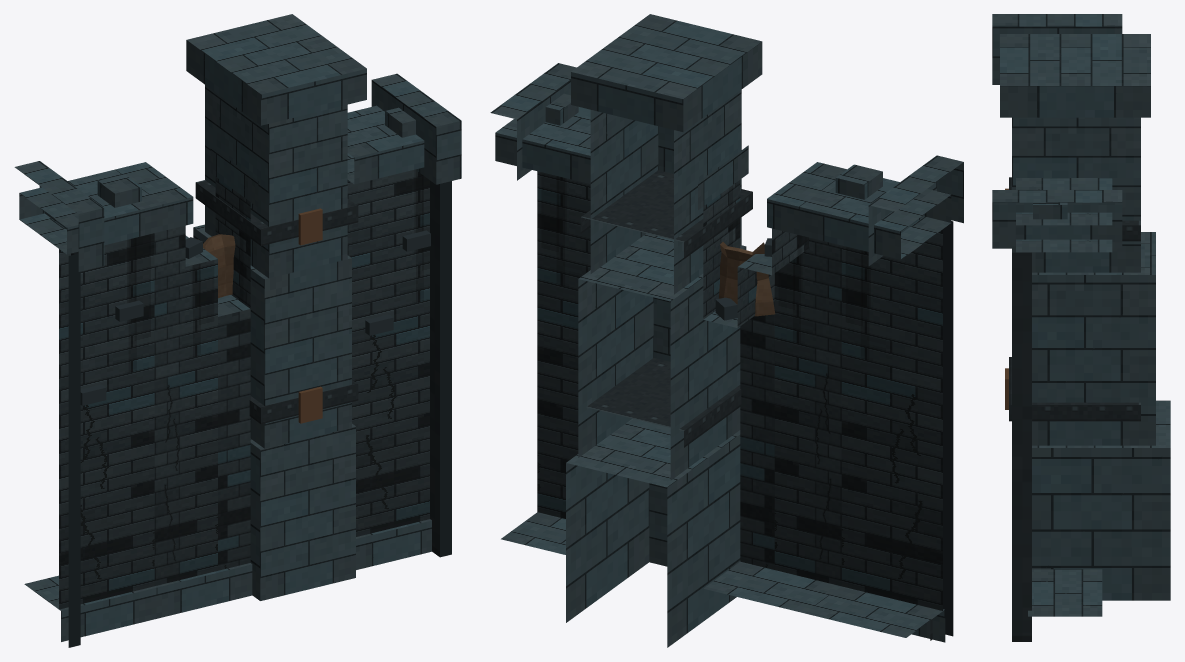
The model's file is T1_End_B.fbx.
3 views of the same model, side by side, from view 1: azimuth 30°, elevation 25°; view 2: azimuth 150°, elevation 25°; view 3: azimuth 270°, elevation 25° (orthographic). The views are drawn at different scales.
Parts seen in each view (by area): view 1: T1_End_B; view 2: T1_End_B; view 3: T1_End_B.
Part boxes in pixels (<box>): T1_End_B: <box>14,14,461,647</box>; T1_End_B: <box>490,14,963,647</box>; T1_End_B: <box>992,14,1170,641</box>.
Bounding box in the file's own units: 4.5 × 5.75 × 1.8.
